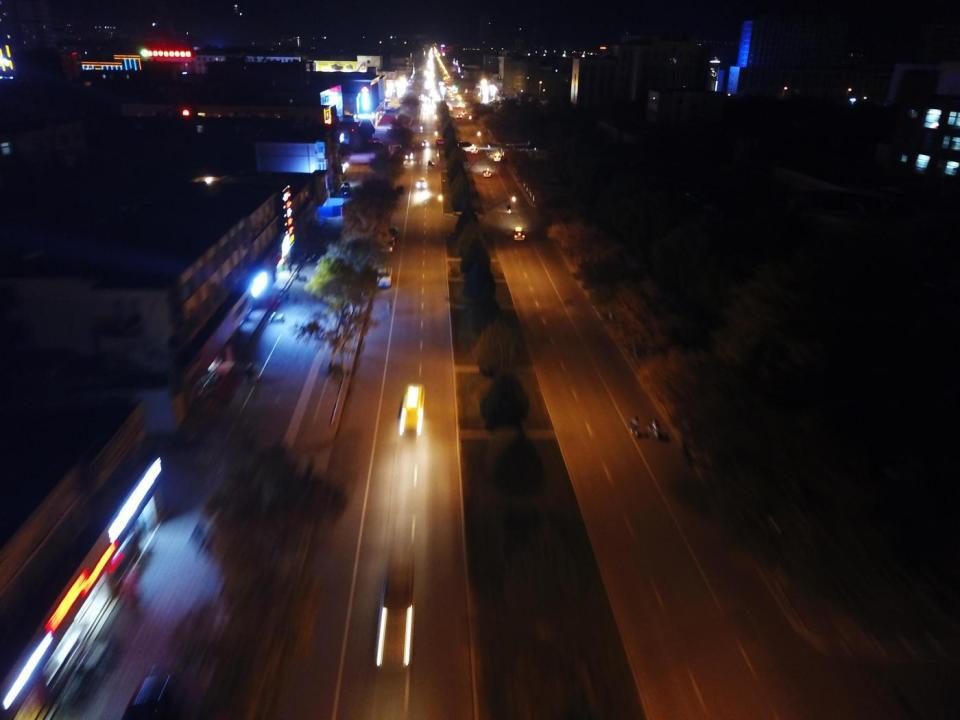car: (373, 556, 414, 664), (122, 665, 174, 720), (397, 382, 422, 436), (376, 266, 392, 286), (380, 238, 394, 252), (383, 226, 398, 239), (513, 226, 525, 240), (487, 142, 505, 150), (416, 178, 426, 188), (457, 142, 472, 148), (404, 151, 413, 160), (483, 168, 491, 178), (342, 159, 350, 167), (372, 137, 382, 143), (339, 188, 347, 195), (435, 139, 446, 144), (421, 140, 428, 147), (343, 182, 350, 188), (471, 148, 478, 154), (458, 102, 466, 107), (494, 154, 500, 160), (388, 106, 396, 110), (422, 110, 427, 116), (452, 89, 458, 93), (457, 114, 462, 118), (449, 106, 453, 111), (462, 110, 466, 114), (450, 96, 454, 100), (448, 90, 452, 94), (446, 85, 450, 89)
